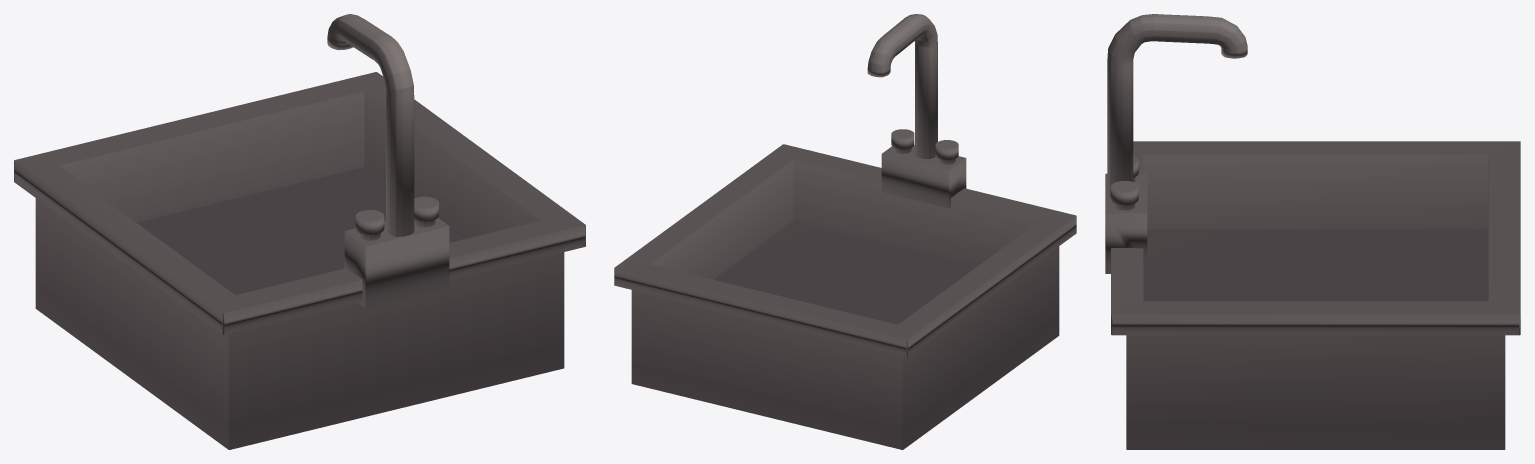
File: Sink.fbx
3 views of the same model, side by side, from view 1: azimuth 30°, elevation 25°; view 2: azimuth 150°, elevation 25°; view 3: azimuth 270°, elevation 25° (orthographic). The views are drawn at different scales.
Parts seen in each view (by area): view 1: Sink; view 2: Sink; view 3: Sink.
Boxes of the visible parts, x1,y1,x2,y2 form: Sink: [14, 14, 585, 449]; Sink: [614, 14, 1076, 449]; Sink: [1105, 14, 1520, 449].
Size of the model in its own units: 222 by 212 by 225.
